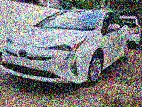car: (1, 7, 130, 91)
